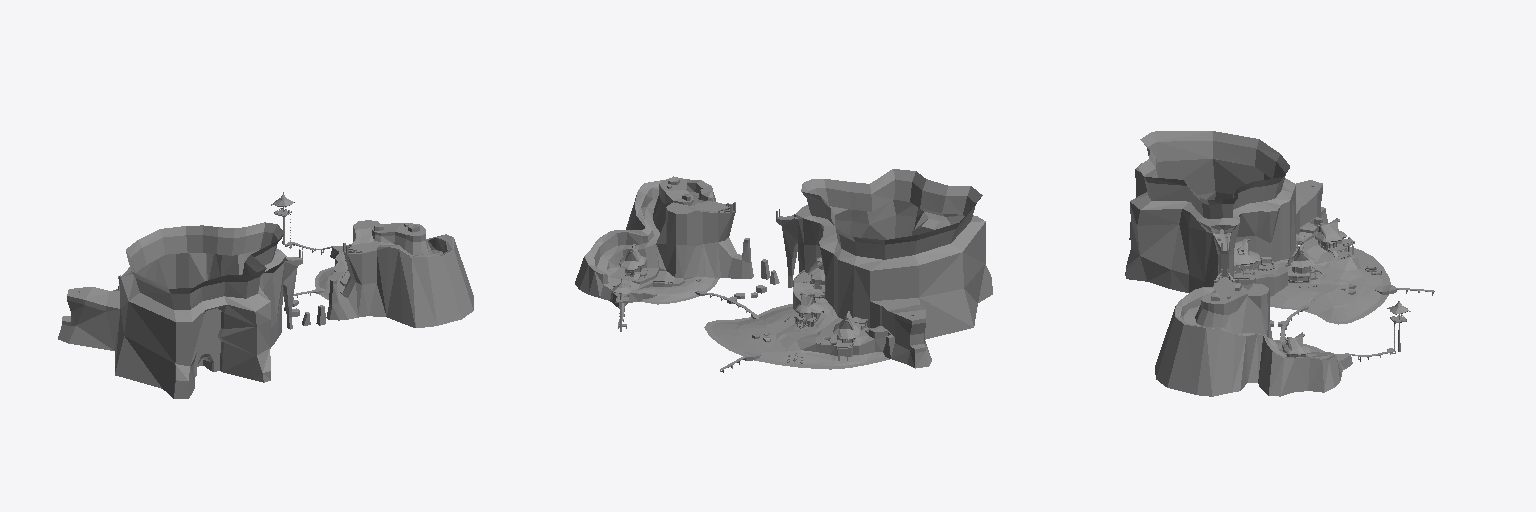
Rendered from Island.obj.
3 renders of one model, left to right at view 1: azimuth 30°, elevation 25°; view 2: azimuth 150°, elevation 25°; view 3: azimuth 270°, elevation 25°, orthographic.
Visible parts, largest first — view 1: n5b5, n0b0, n6b6, n4b4; view 2: n5b5, n6b6, n0b0, n4b4, n1b1, n3b2, n2b3; view 3: n5b5, n6b6, n0b0, n4b4, n1b1, n3b2, n2b3.
Boxes of the visible parts, x1=… form: n5b5: x1=58, y1=227, x2=473, y2=398; n0b0: x1=126, y1=222, x2=284, y2=309; n6b6: x1=63, y1=221, x2=452, y2=321; n4b4: x1=58, y1=220, x2=453, y2=370; n5b5: x1=575, y1=188, x2=992, y2=367; n6b6: x1=585, y1=178, x2=985, y2=369; n0b0: x1=801, y1=169, x2=982, y2=259; n4b4: x1=584, y1=176, x2=928, y2=368; n1b1: x1=612, y1=244, x2=860, y2=338; n3b2: x1=617, y1=202, x2=867, y2=372; n2b3: x1=612, y1=251, x2=866, y2=363; n5b5: x1=1125, y1=159, x2=1339, y2=396; n6b6: x1=1130, y1=159, x2=1390, y2=360; n0b0: x1=1138, y1=131, x2=1289, y2=218; n4b4: x1=1175, y1=180, x2=1396, y2=380; n1b1: x1=1234, y1=218, x2=1408, y2=354; n3b2: x1=1214, y1=234, x2=1434, y2=361; n2b3: x1=1234, y1=219, x2=1410, y2=357.
Size of the model in its own units: 19408 by 5574 by 14496.